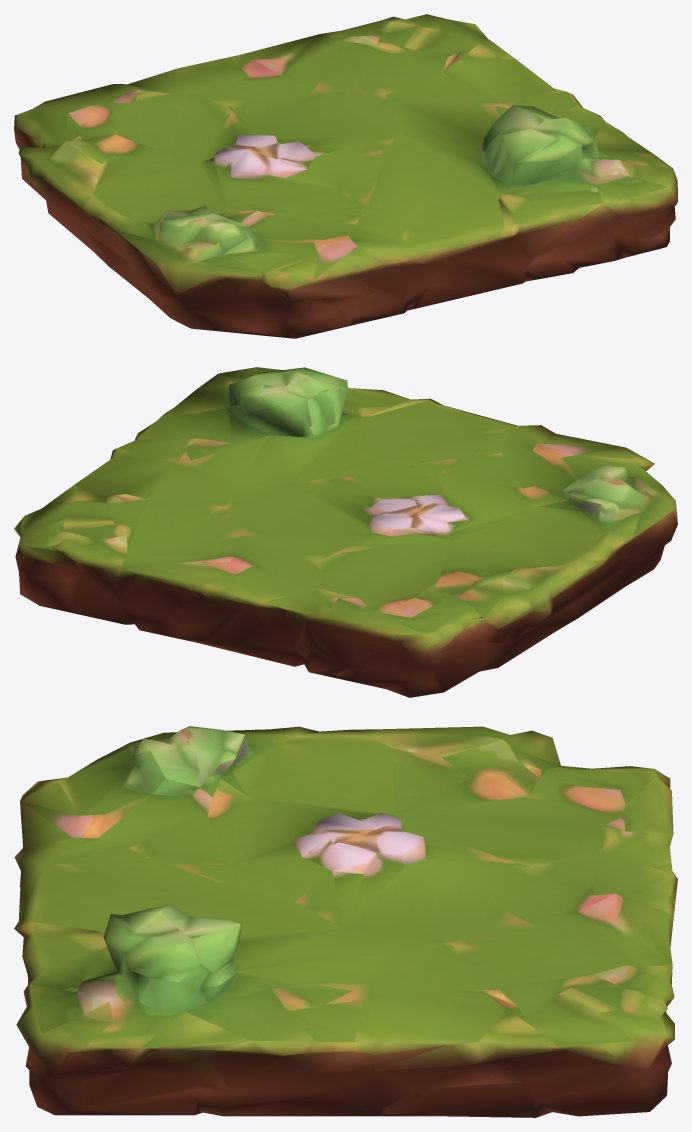
The model's file is CF_Tile_Moss.fbx.
3 renders of one model, top to bottom at view 1: azimuth 30°, elevation 25°; view 2: azimuth 150°, elevation 25°; view 3: azimuth 270°, elevation 25°, orthographic. The views are drawn at different scales.
Visible parts, largest first — view 1: CF_Tile_Moss; view 2: CF_Tile_Moss; view 3: CF_Tile_Moss.
Boxes of the visible parts, box(x1,y1,x2,y2) form: CF_Tile_Moss: box(14, 14, 677, 338); CF_Tile_Moss: box(14, 367, 677, 697); CF_Tile_Moss: box(14, 726, 677, 1117).
Size of the model in its own units: 10.04 by 2.08 by 9.01.
